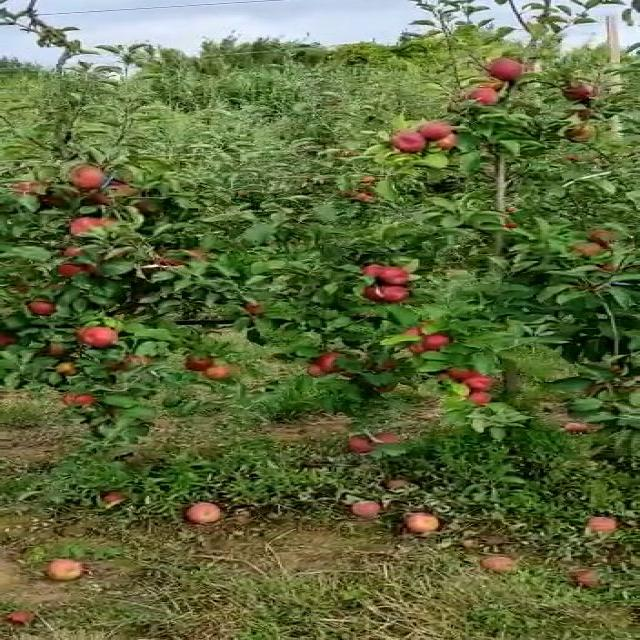100-_ripeness: (75, 158, 109, 191), (65, 215, 111, 237), (80, 322, 113, 350), (322, 349, 353, 374), (411, 331, 451, 350), (396, 131, 429, 152), (462, 85, 500, 103), (372, 268, 412, 285), (566, 240, 606, 257), (372, 282, 403, 303), (180, 353, 216, 371), (411, 123, 453, 138), (460, 372, 487, 393), (24, 298, 49, 317), (493, 58, 516, 77), (469, 390, 495, 404)
